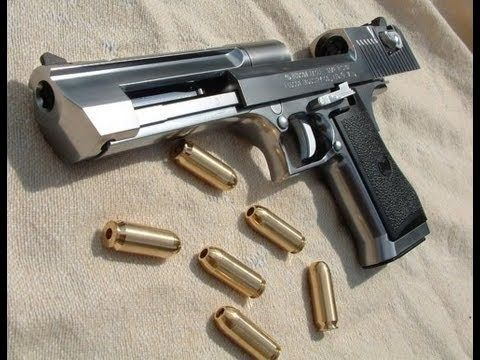Arma Real: (31, 14, 439, 267)
